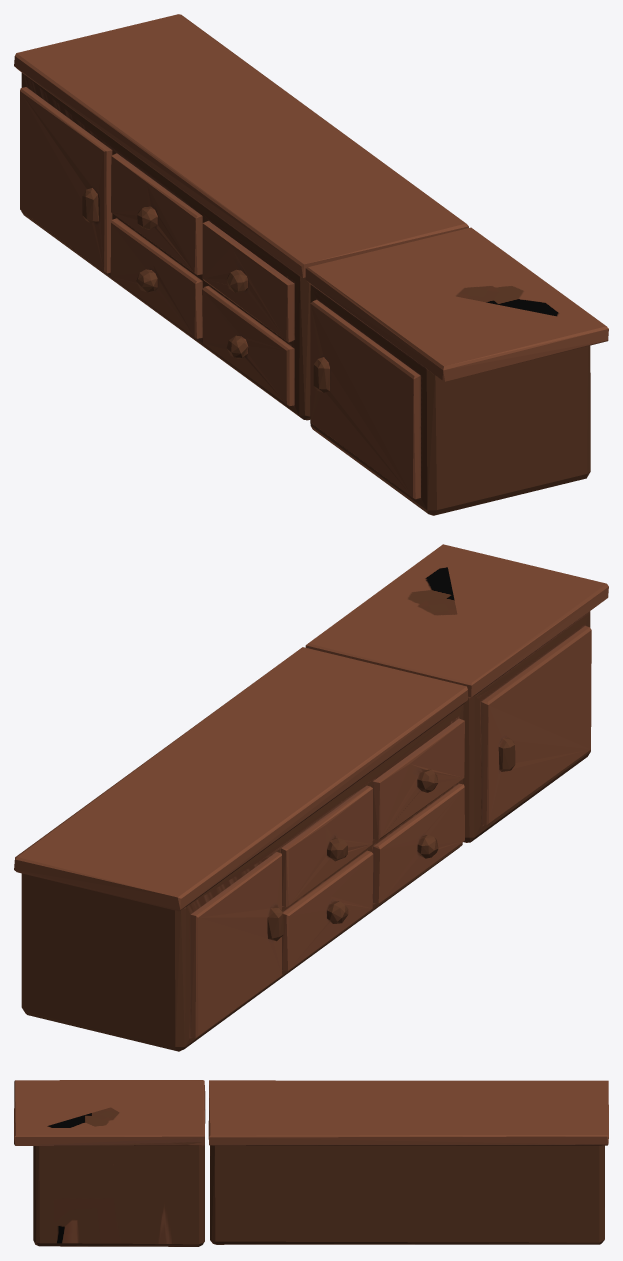
File: kommode.glb
The picture shows the model from 3 angles, top to bottom: view 1: azimuth 30°, elevation 25°; view 2: azimuth 150°, elevation 25°; view 3: azimuth 270°, elevation 25°; orthographic projection. The views are drawn at different scales.
Parts seen in each view (by area): view 1: 282328_23_05_24_17_56_50_0.001; view 2: 282328_23_05_24_17_56_50_0.001; view 3: 282328_23_05_24_17_56_50_0.001.
Part boxes in pixels (box(x1,y1,x2,y2)): 282328_23_05_24_17_56_50_0.001: box(14, 14, 608, 515); 282328_23_05_24_17_56_50_0.001: box(14, 544, 608, 1051); 282328_23_05_24_17_56_50_0.001: box(14, 1080, 608, 1246).
Bounding box in the file's own units: 2.17 × 1.81 × 8.59.
1 material, 1 textured.
